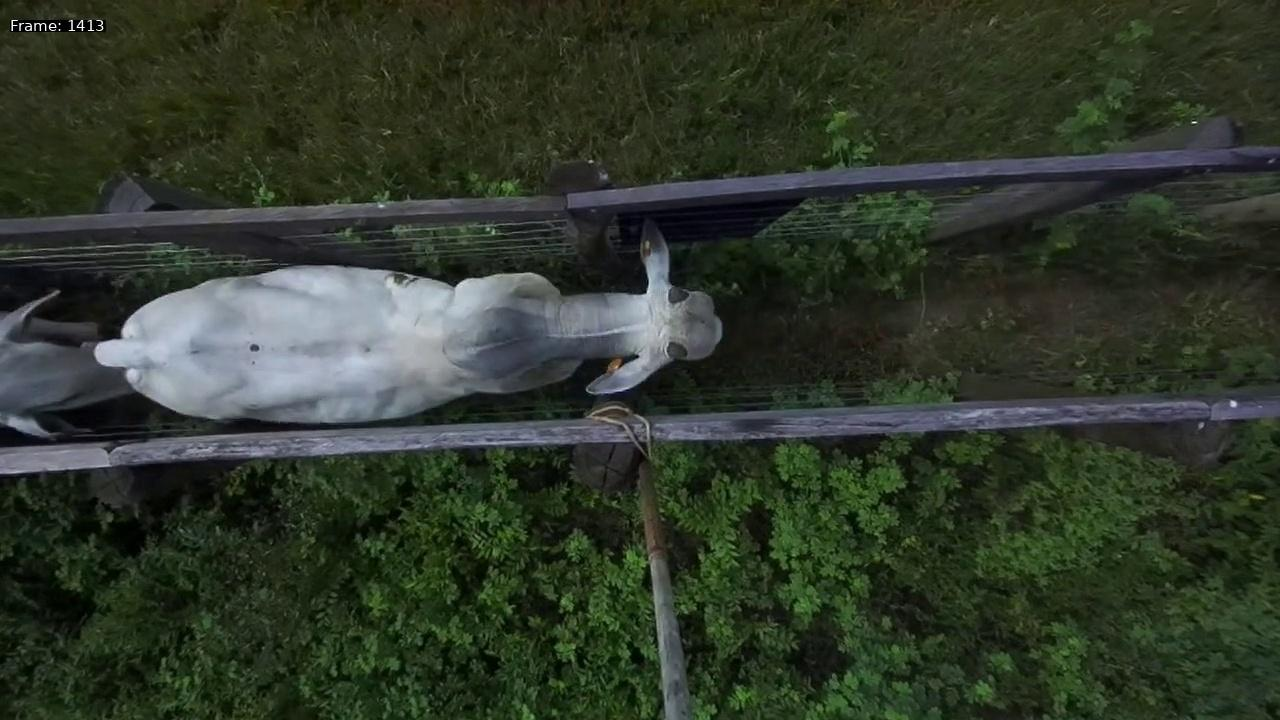cattle: (84, 205, 742, 432)
